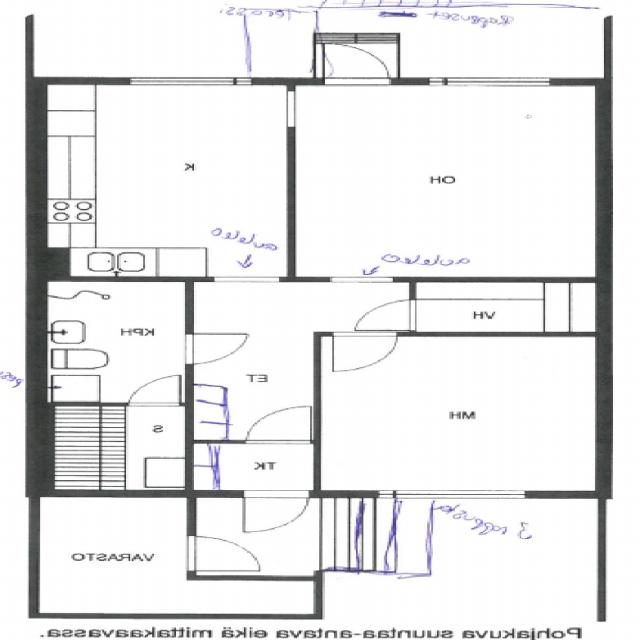door: (324, 44, 390, 87), (243, 490, 309, 531), (333, 332, 397, 371), (187, 536, 260, 570), (246, 406, 311, 444), (186, 334, 251, 364), (354, 300, 416, 330), (128, 375, 180, 406)
